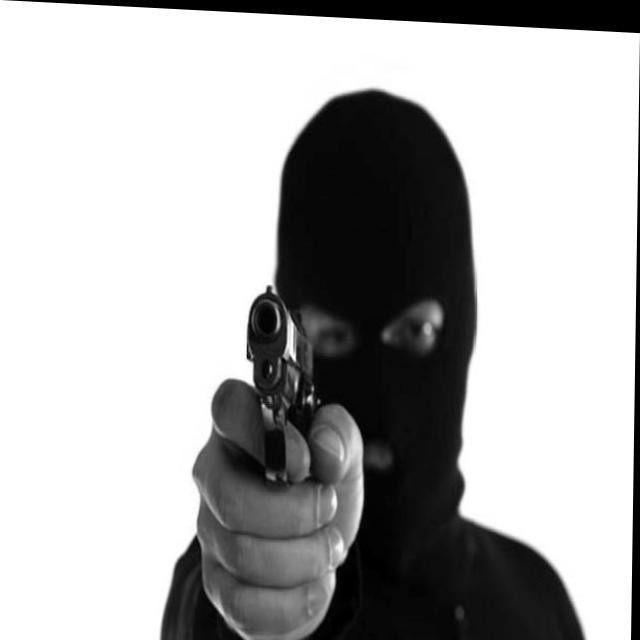weapon: (244, 280, 322, 484)
